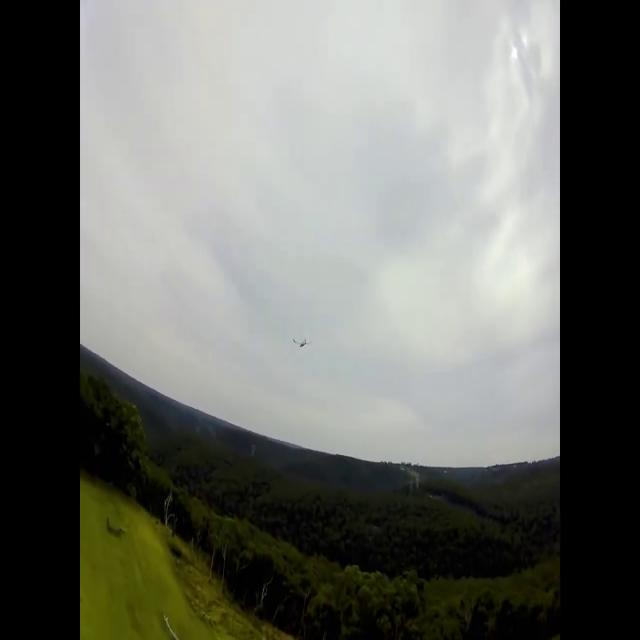iha: (293, 341, 310, 343)
